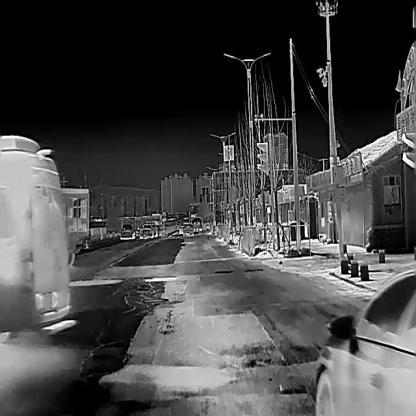car: (0, 134, 75, 341), (313, 267, 415, 415), (57, 184, 87, 267), (120, 216, 148, 239), (150, 213, 161, 235), (140, 224, 153, 238), (149, 223, 157, 237), (184, 226, 193, 235), (178, 226, 185, 233)
